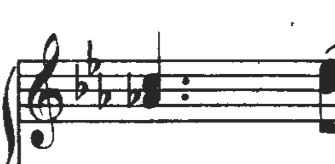flat: (69, 60, 91, 104), (83, 33, 104, 79), (94, 68, 114, 113)
treble_clef: (22, 27, 73, 155)
